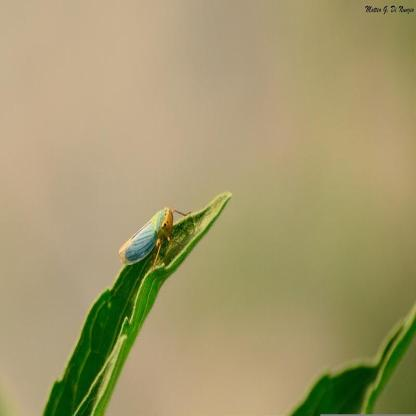Green-Leafhopper: (117, 203, 192, 269)
